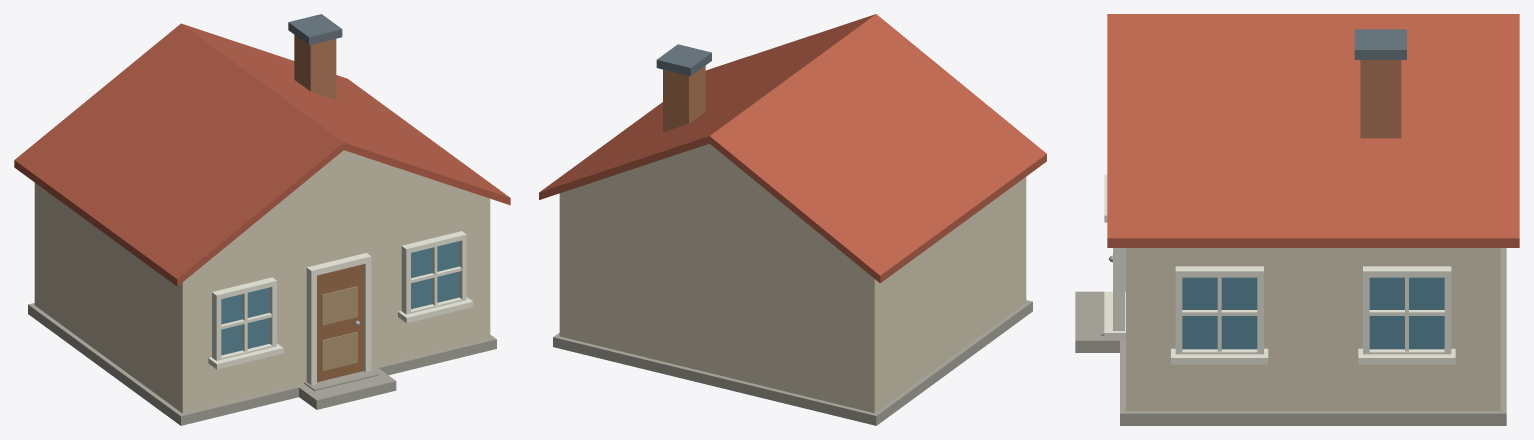
Rendered from house_cottage.glb.
The picture shows the model from 3 angles, left to right: view 1: azimuth 30°, elevation 25°; view 2: azimuth 150°, elevation 25°; view 3: azimuth 270°, elevation 25°; orthographic projection. The views are drawn at different scales.
Visible parts, largest first — view 1: Cottage_Walls, Cottage_Roof_Left_Slope, Cottage_Roof_Right_Slope, Cottage_Roof_Front_Gable, Cottage_Foundation, Cottage_Front_Door_Door, Cottage_Front_Window_1.85_Glass, Cottage_Front_Window_-1.85_Glass, Cottage_Chimney, Cottage_Front_Step, Cottage_Front_Door_Jamb_-1, Cottage_Front_Door_Inset_Panel_1 (+13 smaller); view 2: Cottage_Walls, Cottage_Roof_Left_Slope, Cottage_Roof_Right_Slope, Cottage_Roof_Rear_Gable, Cottage_Foundation, Cottage_Chimney, Cottage_Chimney_Cap; view 3: Cottage_Roof_Right_Slope, Cottage_Walls, Cottage_Foundation, Cottage_Right_Window_-1.25_Glass, Cottage_Right_Window_1.25_Glass, Cottage_Chimney, Cottage_Front_Step, Cottage_Chimney_Cap, Cottage_Right_Window_1.25_Sill, Cottage_Right_Window_-1.25_Sill, Cottage_Right_Window_1.25_Horizontal_Frame_1, Cottage_Right_Window_-1.25_Horizontal_Frame_1 (+10 smaller).
Boxes of the visible parts, x1=… form: Cottage_Walls: x1=34, y1=183, x2=490, y2=413; Cottage_Roof_Left_Slope: x1=14, y1=23, x2=343, y2=286; Cottage_Roof_Right_Slope: x1=181, y1=23, x2=510, y2=205; Cottage_Roof_Front_Gable: x1=212, y1=150, x2=475, y2=258; Cottage_Foundation: x1=28, y1=303, x2=496, y2=425; Cottage_Front_Door_Door: x1=317, y1=264, x2=363, y2=382; Cottage_Front_Window_1.85_Glass: x1=411, y1=241, x2=459, y2=309; Cottage_Front_Window_-1.85_Glass: x1=221, y1=287, x2=269, y2=355; Cottage_Chimney: x1=294, y1=35, x2=336, y2=99; Cottage_Front_Step: x1=299, y1=368, x2=396, y2=409; Cottage_Front_Door_Jamb_-1: x1=306, y1=270, x2=316, y2=385; Cottage_Front_Door_Inset_Panel_1: x1=321, y1=286, x2=357, y2=325; Cottage_Walls: x1=559, y1=177, x2=1026, y2=413; Cottage_Roof_Left_Slope: x1=709, y1=14, x2=1046, y2=283; Cottage_Roof_Right_Slope: x1=539, y1=14, x2=875, y2=199; Cottage_Roof_Rear_Gable: x1=574, y1=143, x2=844, y2=254; Cottage_Foundation: x1=553, y1=300, x2=1032, y2=425; Cottage_Chimney: x1=663, y1=65, x2=705, y2=132; Cottage_Chimney_Cap: x1=656, y1=44, x2=711, y2=76; Cottage_Roof_Right_Slope: x1=1107, y1=14, x2=1519, y2=247; Cottage_Walls: x1=1126, y1=248, x2=1500, y2=411; Cottage_Foundation: x1=1120, y1=248, x2=1506, y2=425; Cottage_Right_Window_-1.25_Glass: x1=1182, y1=277, x2=1257, y2=349; Cottage_Right_Window_1.25_Glass: x1=1369, y1=277, x2=1444, y2=349; Cottage_Chimney: x1=1360, y1=60, x2=1401, y2=138; Cottage_Front_Step: x1=1075, y1=291, x2=1124, y2=352; Cottage_Chimney_Cap: x1=1354, y1=29, x2=1406, y2=59; Cottage_Right_Window_1.25_Sill: x1=1358, y1=348, x2=1455, y2=364; Cottage_Right_Window_-1.25_Sill: x1=1171, y1=348, x2=1268, y2=364; Cottage_Right_Window_1.25_Horizontal_Frame_1: x1=1363, y1=266, x2=1451, y2=277; Cottage_Right_Window_-1.25_Horizontal_Frame_1: x1=1175, y1=266, x2=1263, y2=277.
Size of the model in its own units: 6.54 by 4.98 by 5.92.
